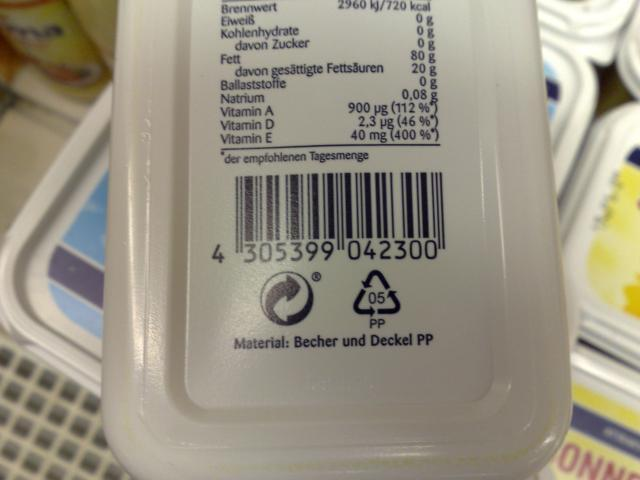Barcode: (203, 167, 465, 271)
